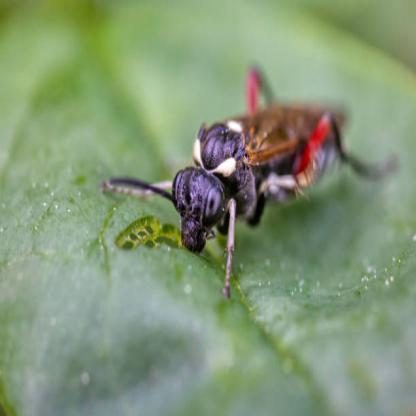sawfly: (101, 60, 404, 298)
